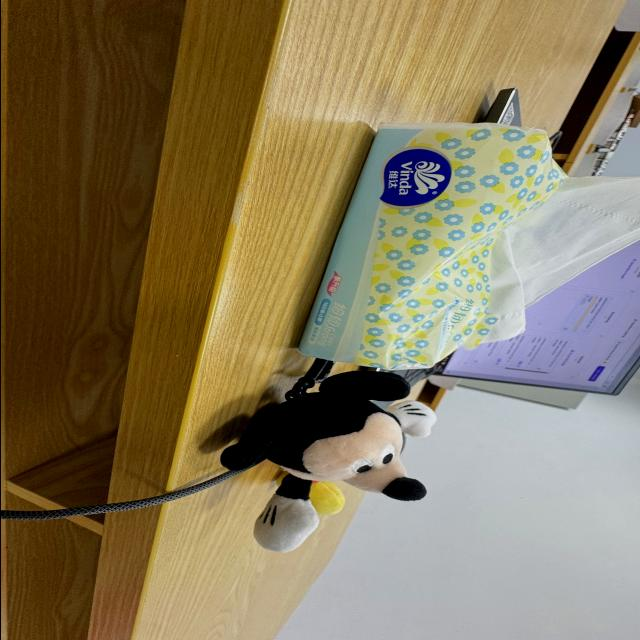mickey: (221, 371, 434, 551)
tissue: (297, 122, 640, 370)
